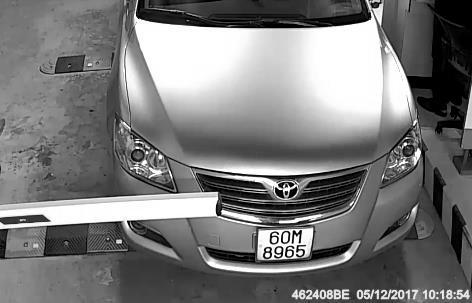License-plate: (247, 219, 323, 269)
